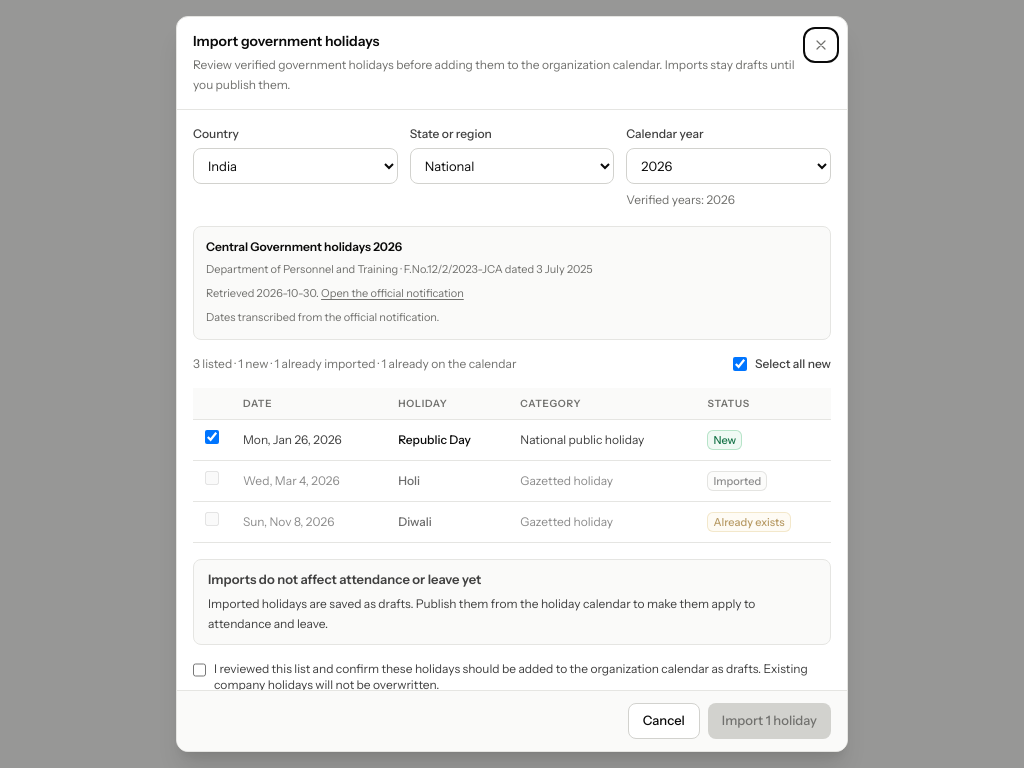
GovernmentHolidayImport › previews verified holidays, preselects new entries, and imports after confirmation
Expected: the text "Republic Day" is shown, [398,432,471,447]
Expected: the text "Holi" is shown, [398,473,420,488]
Click the checkbox labelled "I reviewed this list".
click(200, 670)  # box [193,662,206,676]
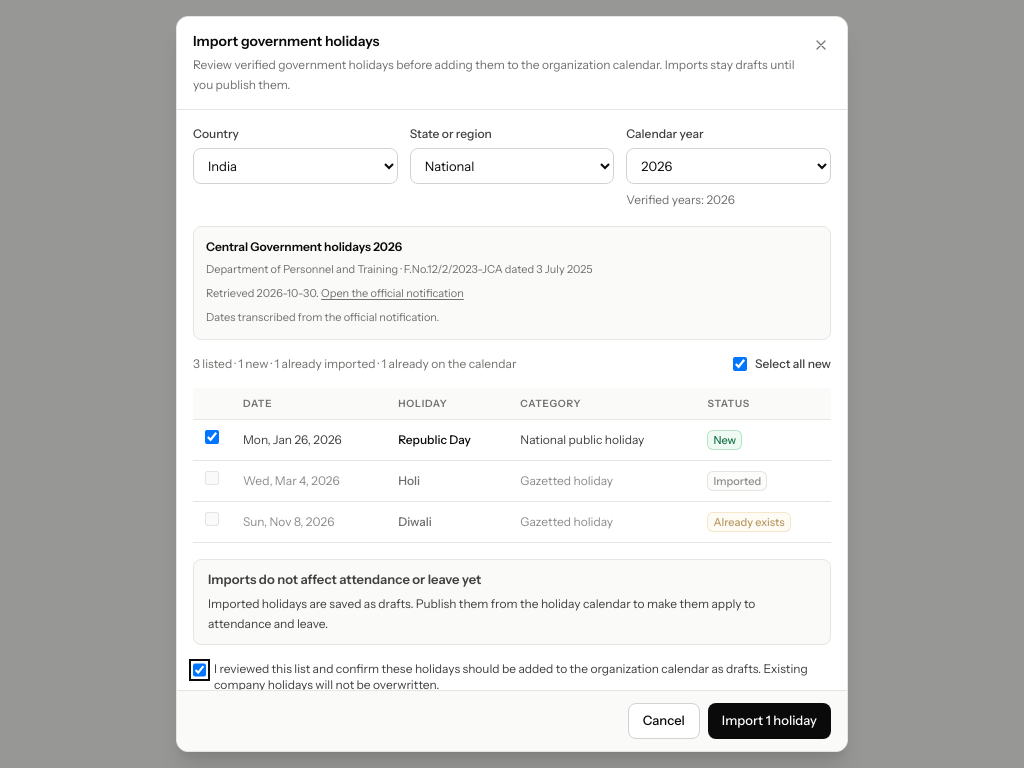
Result: the button "Import 1 holiday" is enabled
Click the button "Import 1 holiday".
click(769, 721)  # box [708,703,831,739]
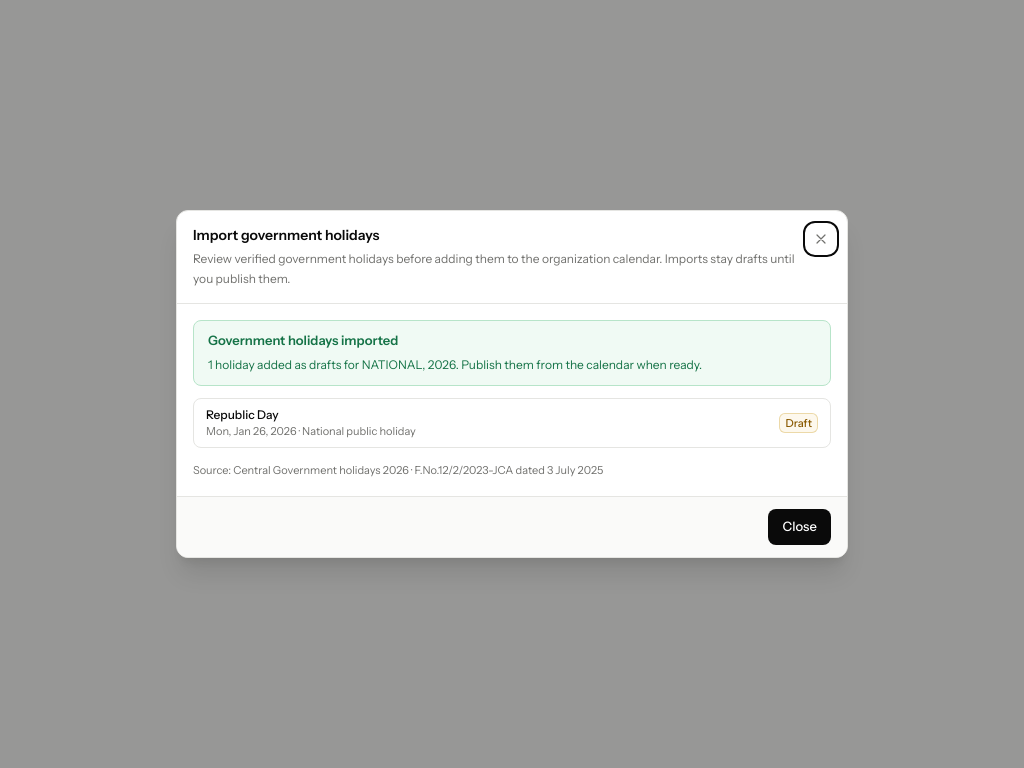
Result: the text "Government holidays imported" is shown at [208,332,398,348]
Result: the text "added as drafts" is shown at [208,356,702,372]
